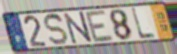2: (24, 14, 48, 47)
8: (109, 8, 134, 42)
E: (84, 9, 116, 44)
L: (130, 7, 157, 41)
N: (62, 10, 94, 46)
S: (44, 12, 69, 46)
